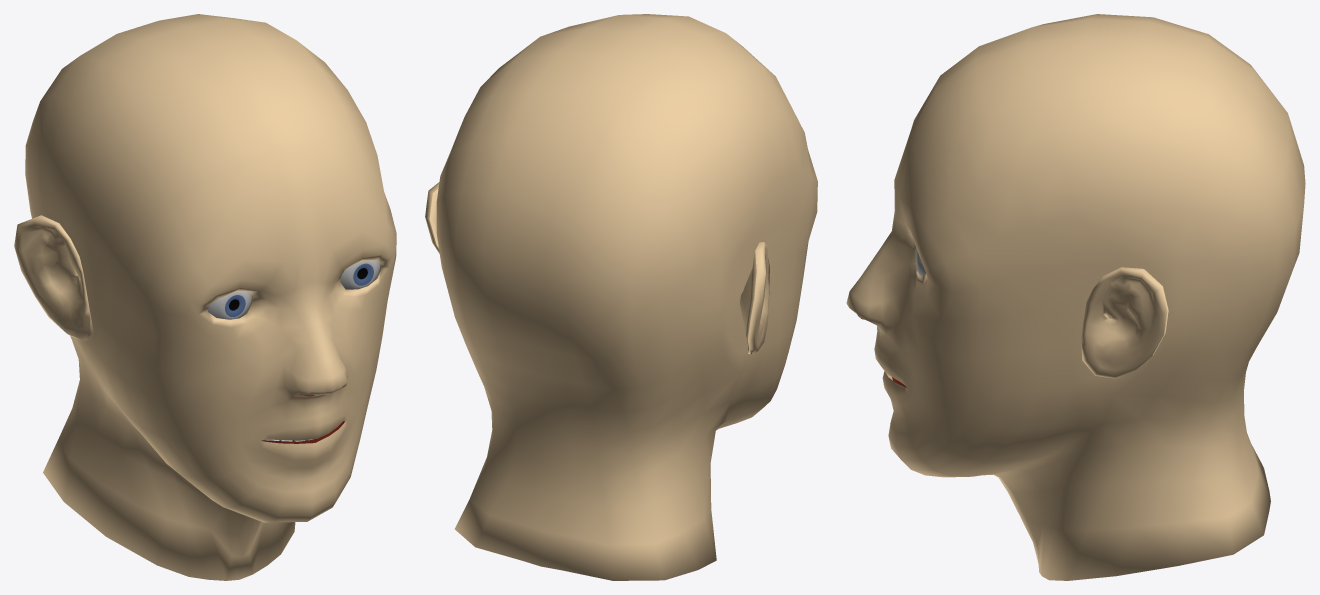
Rendered from testhead.dae.
3 renders of one model, left to right at view 1: azimuth 30°, elevation 25°; view 2: azimuth 150°, elevation 25°; view 3: azimuth 270°, elevation 25°, orthographic. The views are drawn at different scales.
Parts seen in each view (by area): view 1: Head, Ear, Eye; view 2: Head, Ear; view 3: Head, Ear.
Boxes of the visible parts, x1,y1,x2,y2 form: Head: (25, 14, 396, 580); Ear: (14, 215, 93, 340); Eye: (208, 260, 380, 319); Head: (436, 14, 817, 580); Ear: (425, 182, 769, 354); Head: (846, 14, 1305, 580); Ear: (1081, 267, 1168, 378).
Size of the model in its own units: 1.92 by 2.27 by 2.9.
